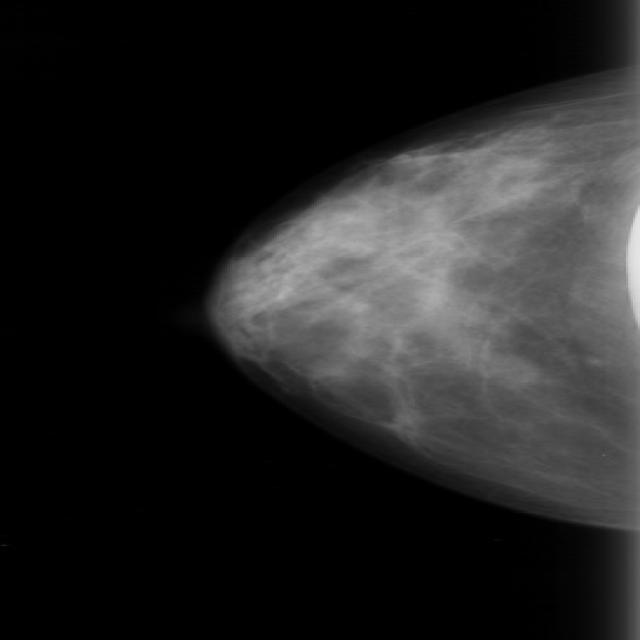tumour: (478, 351, 537, 384)
